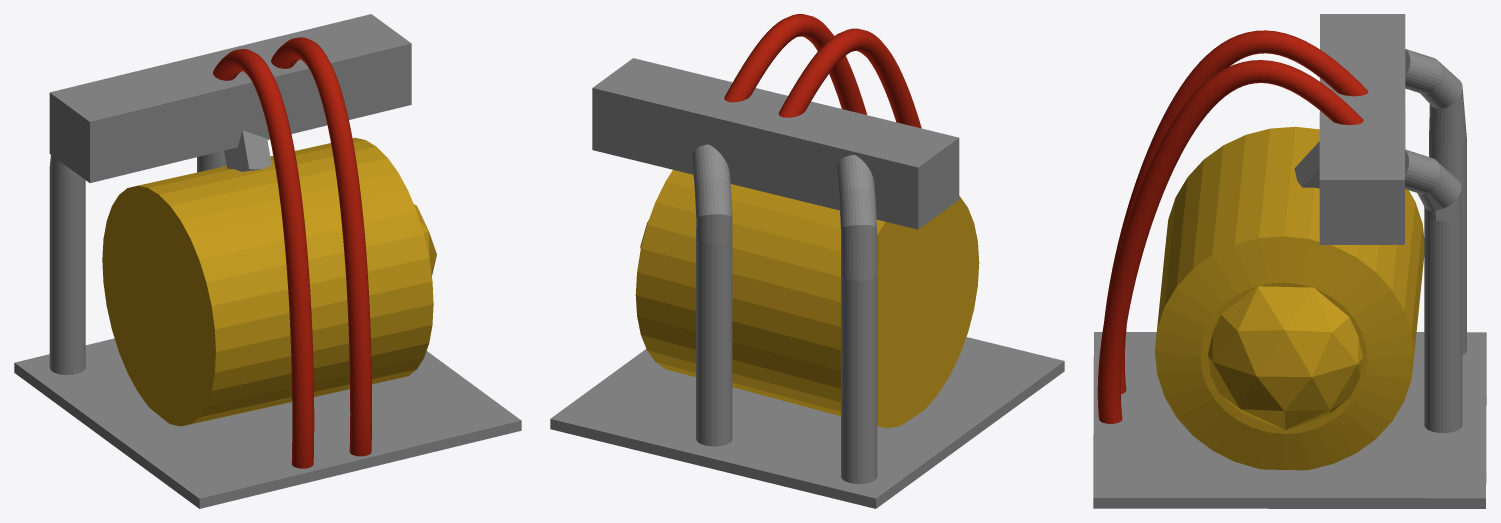
File: PowerGenlevel1.fbx
The picture shows the model from 3 angles, left to right: view 1: azimuth 30°, elevation 25°; view 2: azimuth 150°, elevation 25°; view 3: azimuth 270°, elevation 25°; orthographic projection. The views are drawn at different scales.
Parts seen in each view (by area): view 1: Cylinder, Cube, Cube.001, NurbsPath.001, NurbsPath, Cube.002; view 2: Cube, Cylinder, Cube.001, NurbsPath.001, NurbsPath; view 3: Cylinder, Cube, Cube.001, NurbsPath, NurbsPath.001, Cube.002.
Part boxes in pixels (box(x1,y1,x2,y2)): Cylinder: box(102, 137, 436, 426); Cube: box(14, 150, 521, 508); Cube.001: box(49, 14, 411, 182); NurbsPath.001: box(213, 49, 314, 468); NurbsPath: box(271, 37, 371, 456); Cube.002: box(224, 130, 271, 171); Cube: box(550, 144, 1064, 508); Cylinder: box(635, 170, 979, 428); Cube.001: box(592, 58, 959, 229); NurbsPath.001: box(778, 28, 921, 128); NurbsPath: box(724, 14, 866, 114); Cylinder: box(1154, 126, 1424, 470); Cube: box(1093, 49, 1486, 508); Cube.001: box(1319, 14, 1405, 244); NurbsPath: box(1097, 60, 1363, 423); NurbsPath.001: box(1104, 30, 1368, 394); Cube.002: box(1294, 141, 1319, 188).
Bounding box in the file's own units: 1.99 × 2.11 × 1.98.
